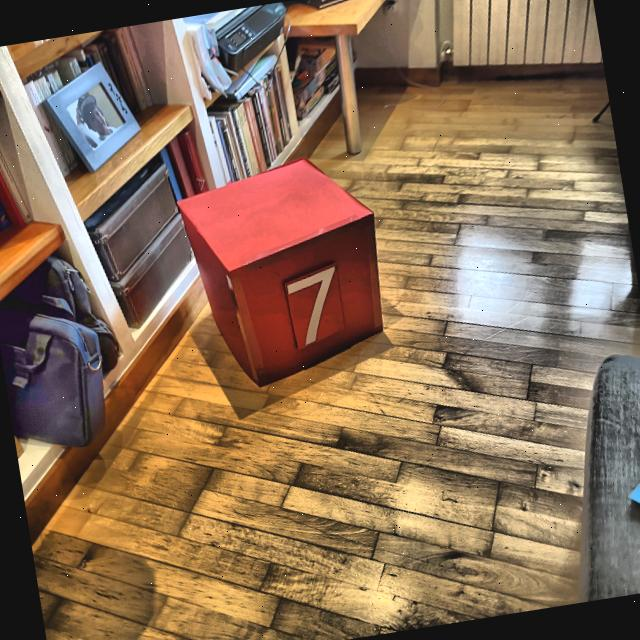red box: (175, 150, 393, 395)
seven: (284, 264, 347, 348)
